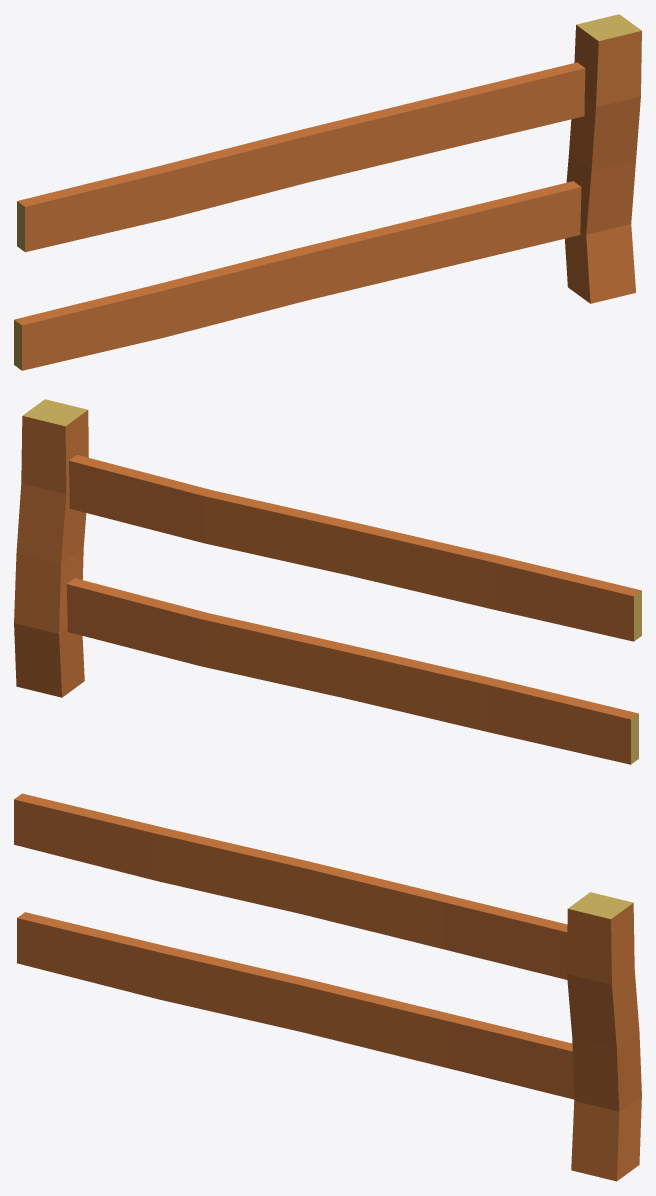
The model's file is fence3.fbx.
3 views of the same model, one above another, from view 1: azimuth 30°, elevation 25°; view 2: azimuth 150°, elevation 25°; view 3: azimuth 330°, elevation 25° (orthographic).
Parts seen in each view (by area): view 1: Cube; view 2: Cube; view 3: Cube.
Boxes of the visible parts, x1,y1,x2,y2 form: Cube: (14,14,641,370); Cube: (14,399,641,764); Cube: (14,793,641,1181).
Size of the model in its own units: 1528 by 641 by 141.
